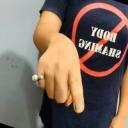hand: (34, 32, 85, 114)
